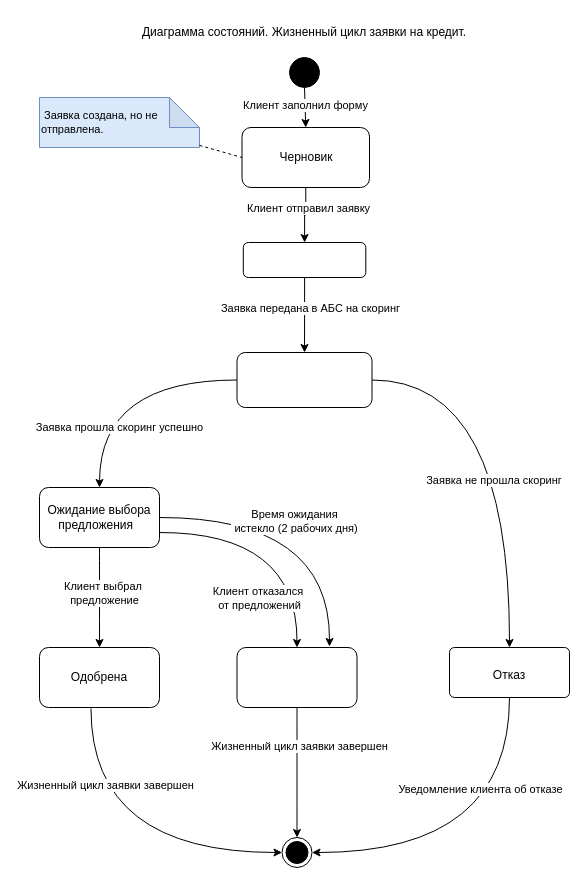
Some shapes in this 588 by 885 pixel diagram are drawn without their labels. Here are the shapes that lost their labels. From the top down, the centre of each, then its label:
the point at 304,260: Заявка создана
the point at 304,380: Ожидание результатов скоринга
the point at 296,677: Отклонена
